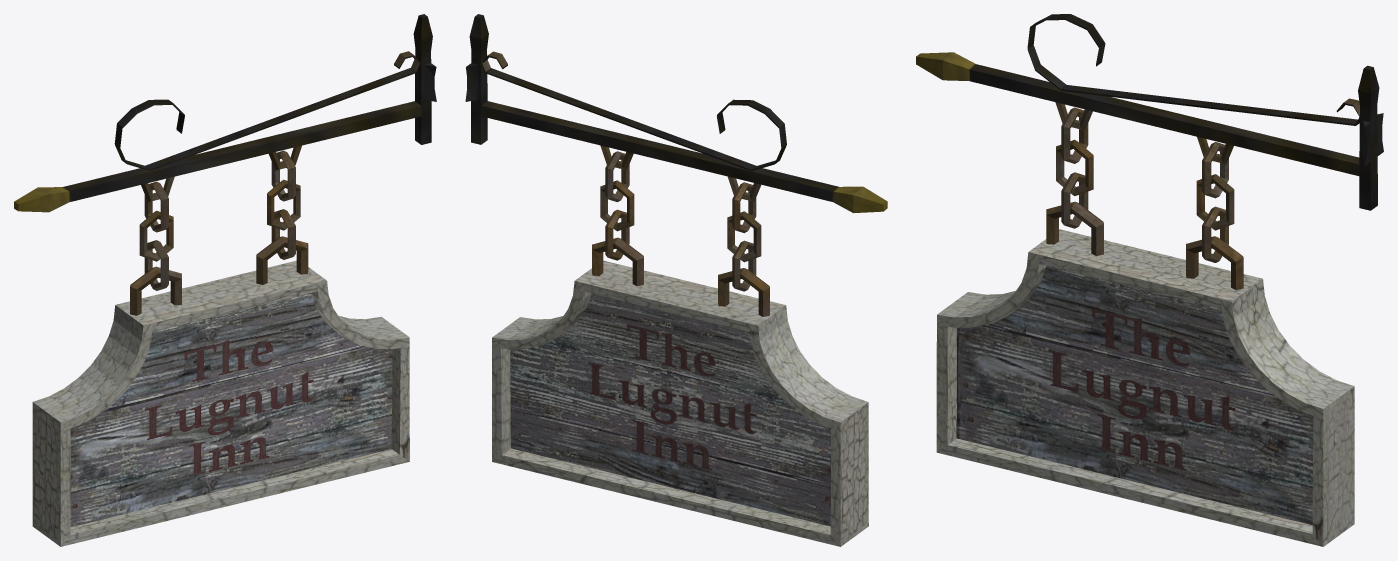
File: hanging_sign.obj
The picture shows the model from 3 angles, left to right: view 1: azimuth 30°, elevation 25°; view 2: azimuth 150°, elevation 25°; view 3: azimuth 330°, elevation 25°; orthographic projection. The views are drawn at different scales.
Visible parts, largest first — view 1: Plane; view 2: Plane; view 3: Plane.
Part boxes in pixels (x1=…): Plane: x1=14, y1=14, x2=436, y2=546; Plane: x1=465, y1=14, x2=887, y2=546; Plane: x1=916, y1=14, x2=1383, y2=546.
Bounding box in the file's own units: 2.03 × 2.02 × 0.24.
1 material, 1 textured.
